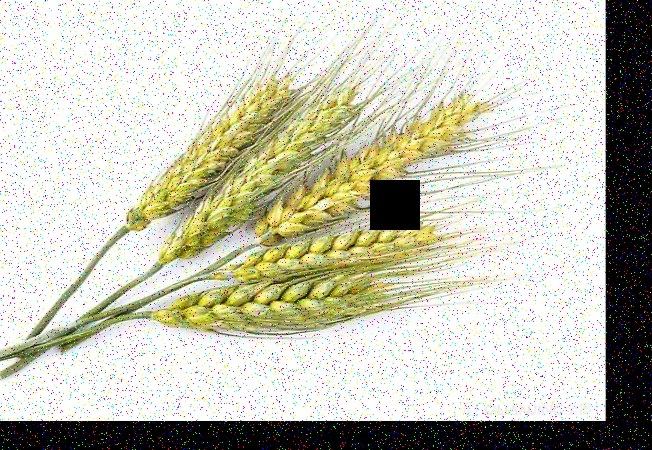wheat: (147, 97, 348, 265), (249, 104, 483, 243), (123, 69, 302, 223), (210, 216, 459, 282), (142, 276, 402, 332)
